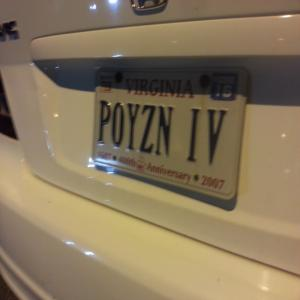Vehicle-registration-plate: (91, 69, 250, 201)
